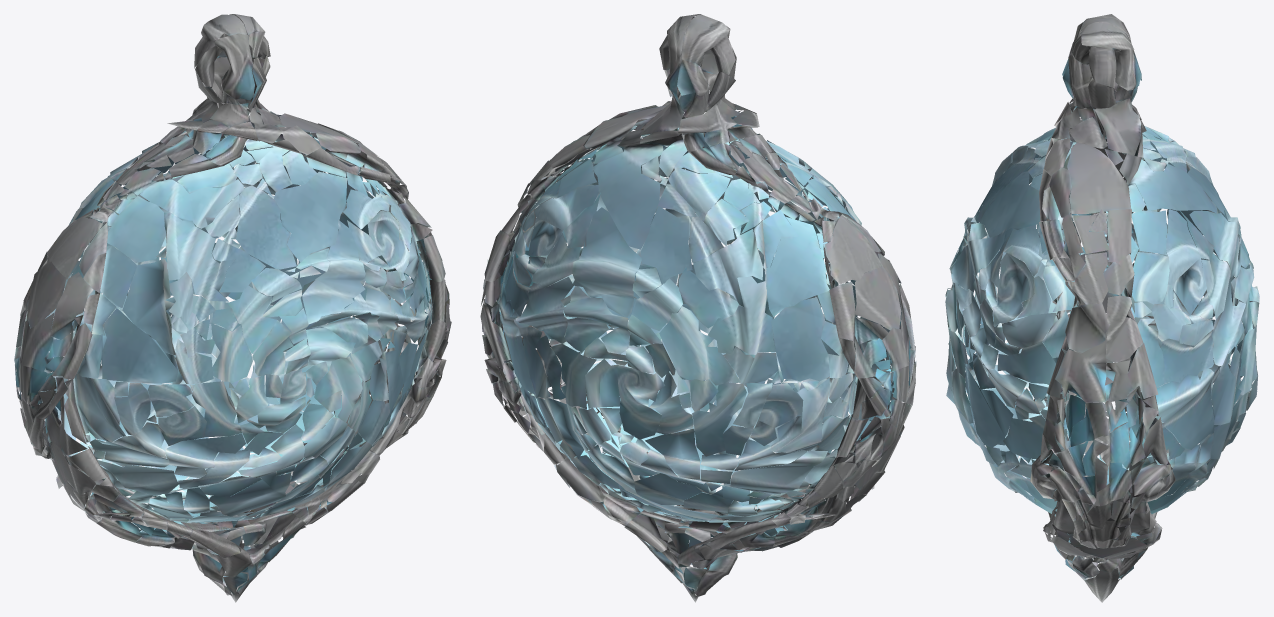
The model's file is talisman-air-phone.glb.
3 renders of one model, left to right at view 1: azimuth 30°, elevation 25°; view 2: azimuth 150°, elevation 25°; view 3: azimuth 270°, elevation 25°, orthographic.
Visible parts, largest first — view 1: Mesh_0; view 2: Mesh_0; view 3: Mesh_0.
Boxes of the visible parts, left/top/right/bottom form: Mesh_0: left=14, top=14, right=451, bottom=602; Mesh_0: left=480, top=14, right=916, bottom=602; Mesh_0: left=945, top=14, right=1259, bottom=602.
Bounding box in the file's own units: 1.43 × 1.91 × 0.9344.
1 material, 1 textured.
